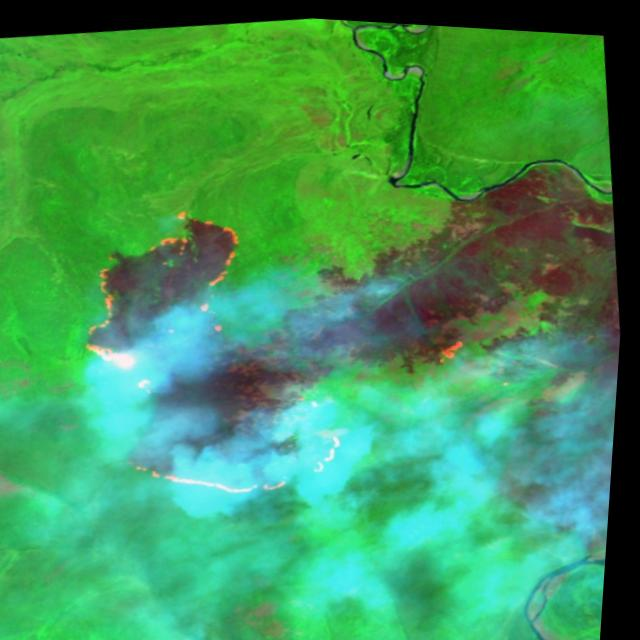fire: (64, 193, 263, 381), (113, 409, 360, 514), (430, 324, 480, 363)
